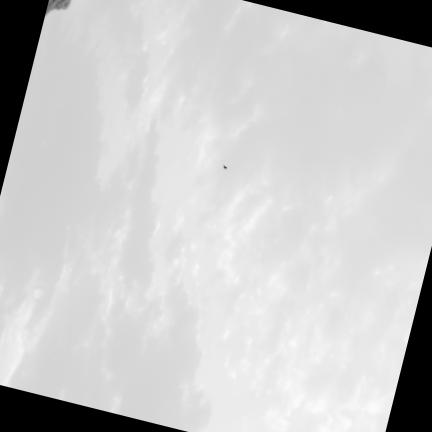Shahed: (222, 164, 226, 168)
